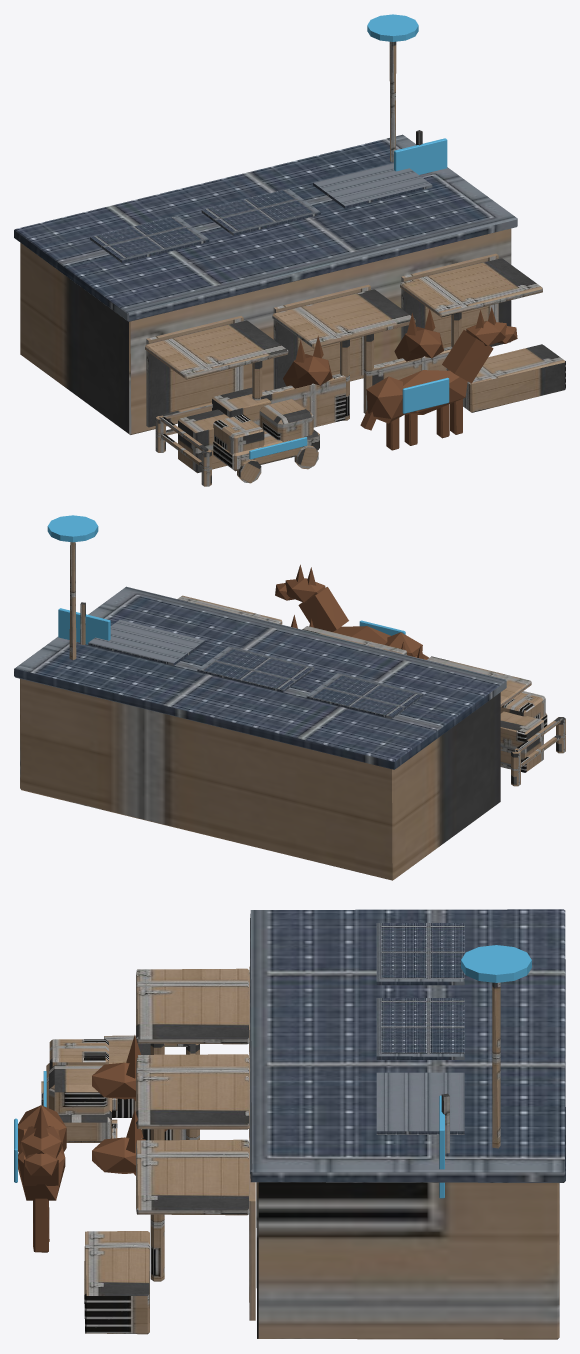
The model's file is edificio-b_017-e5-DXnn5rGq.glb.
The picture shows the model from 3 angles, top to bottom: view 1: azimuth 30°, elevation 25°; view 2: azimuth 150°, elevation 25°; view 3: azimuth 270°, elevation 25°; orthographic projection. The views are drawn at different scales.
Visible parts, largest first — view 1: envolvente_establo, caballos_establo, team_color; view 2: envolvente_establo, caballos_establo, team_color; view 3: envolvente_establo, caballos_establo, team_color.
Part boxes in pixels (box(x1,y1,x2,y2)): envolvente_establo: box(14, 41, 565, 486); caballos_establo: box(283, 307, 517, 450); team_color: box(249, 14, 449, 459); envolvente_establo: box(14, 542, 565, 880); caballos_establo: box(275, 564, 428, 659); team_color: box(47, 515, 405, 644); envolvente_establo: box(41, 909, 565, 1339); caballos_establo: box(18, 1035, 167, 1252); team_color: box(14, 945, 531, 1198).
Size of the model in its own units: 49 by 31.4 by 43.66.
3 materials, 1 textured.
